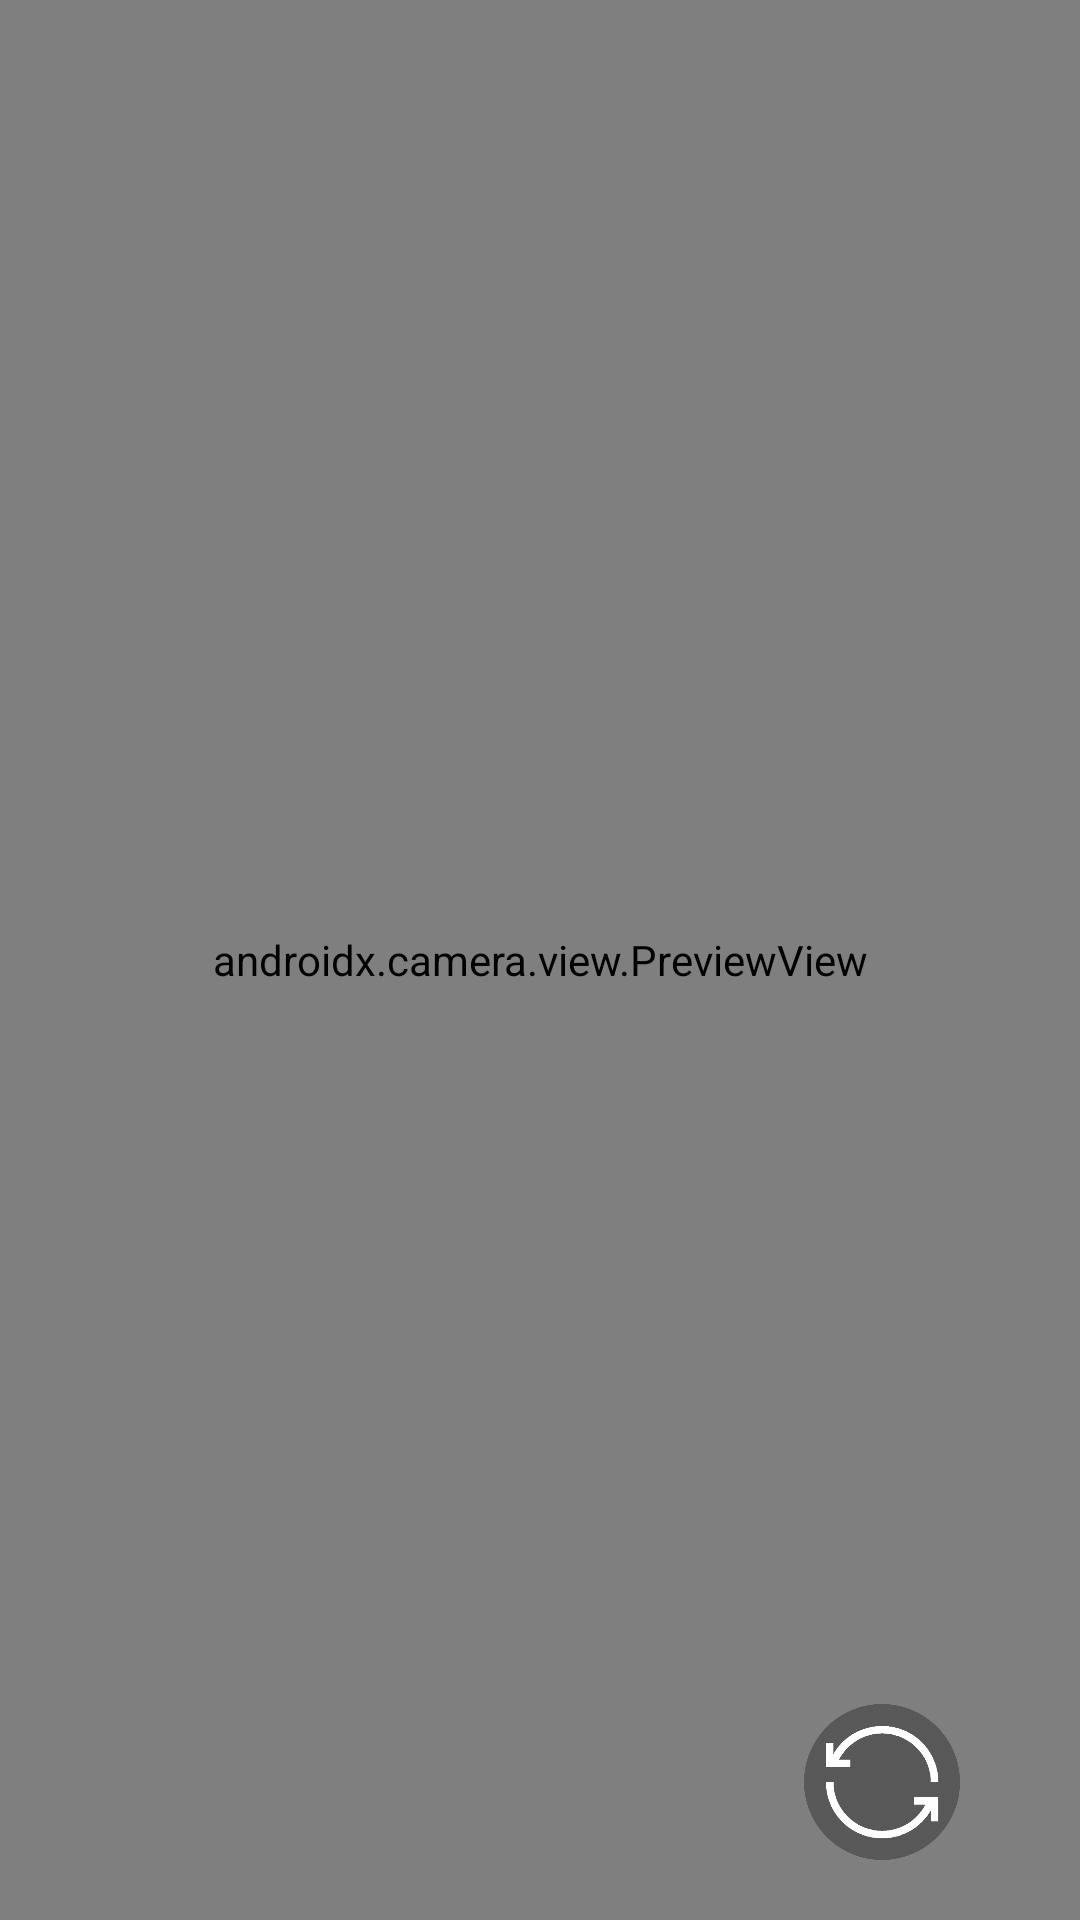

Point at icon controls on the screen. Image size 1080 x 1920, points as point (x, y).
rotate: point (882, 1782)
